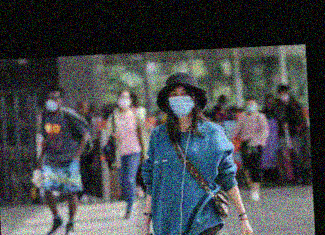with_mask: (166, 87, 195, 117), (42, 94, 59, 114), (116, 94, 133, 111), (243, 100, 257, 114), (278, 89, 288, 103)
